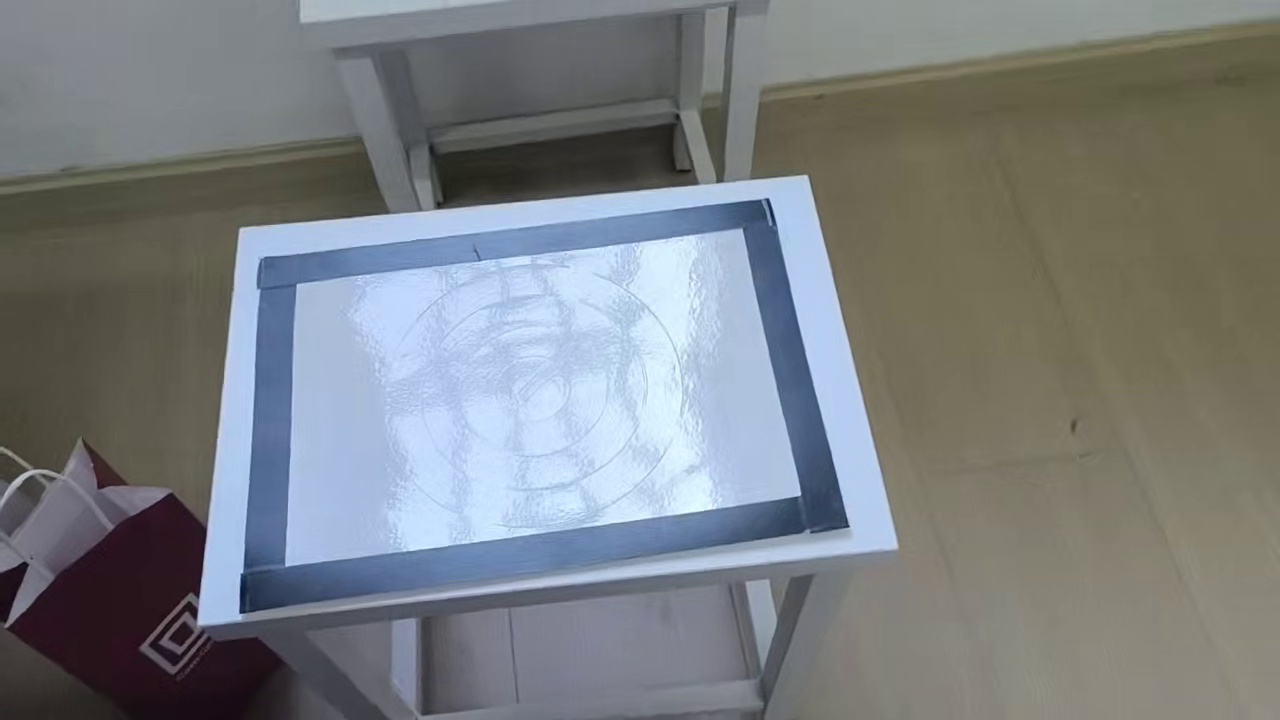board: (240, 196, 850, 613)
